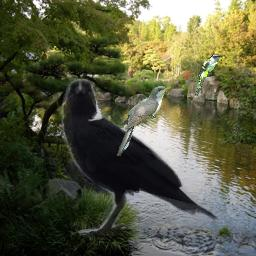Crow: (60, 78, 219, 236)
Cuckoo: (117, 86, 171, 156), (195, 54, 223, 97)
